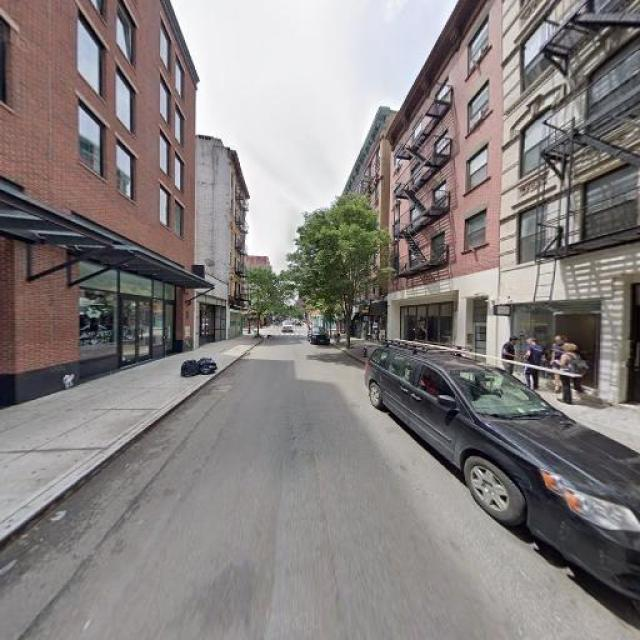Building: (1, 1, 193, 404), (498, 1, 640, 412), (389, 1, 494, 373)
